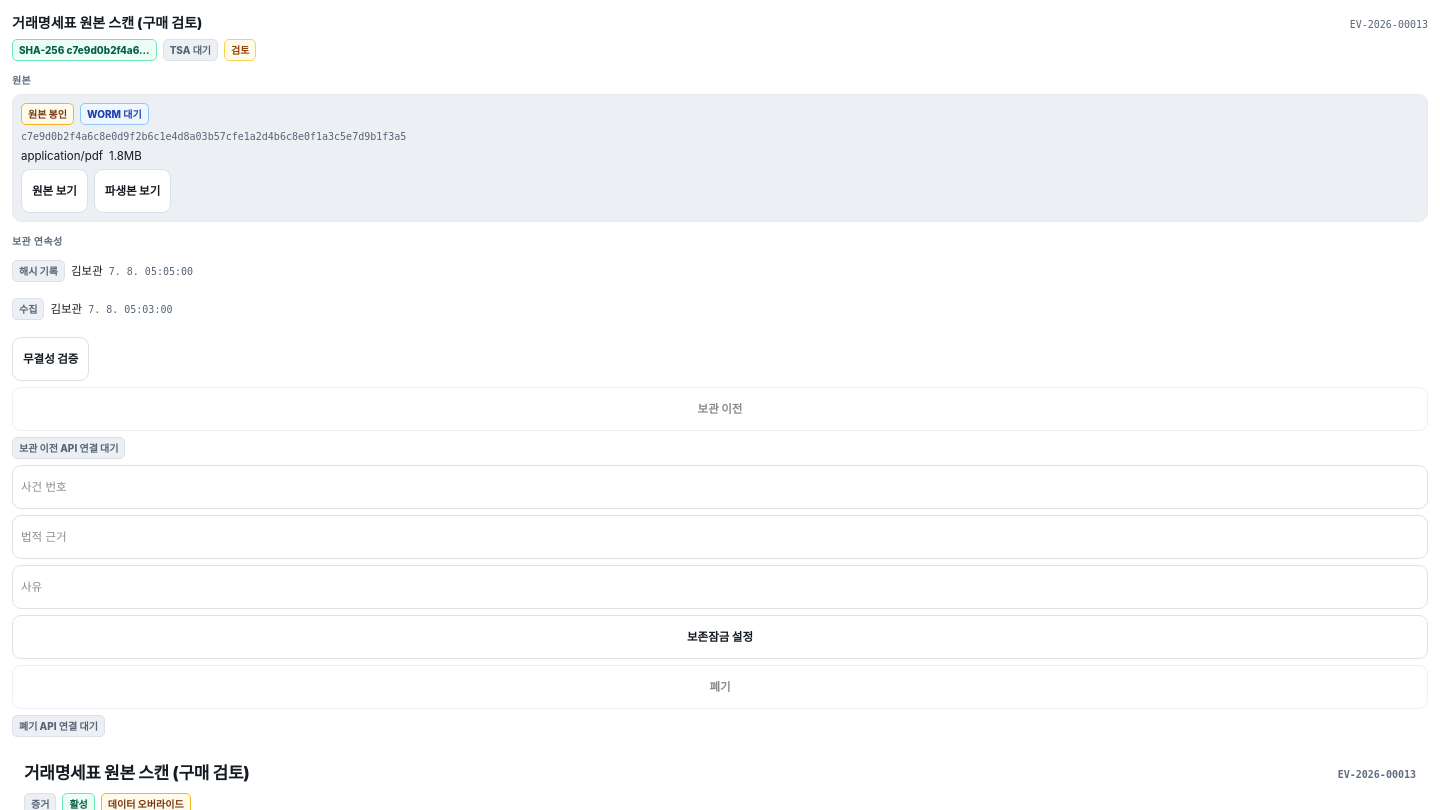
Test: EvidenceCard verify affordance › clears a prior MATCH verdict chip when a later verify throws
Click the button "무결성 검증". click: (51,359)
box: 12,337 -> 89,381
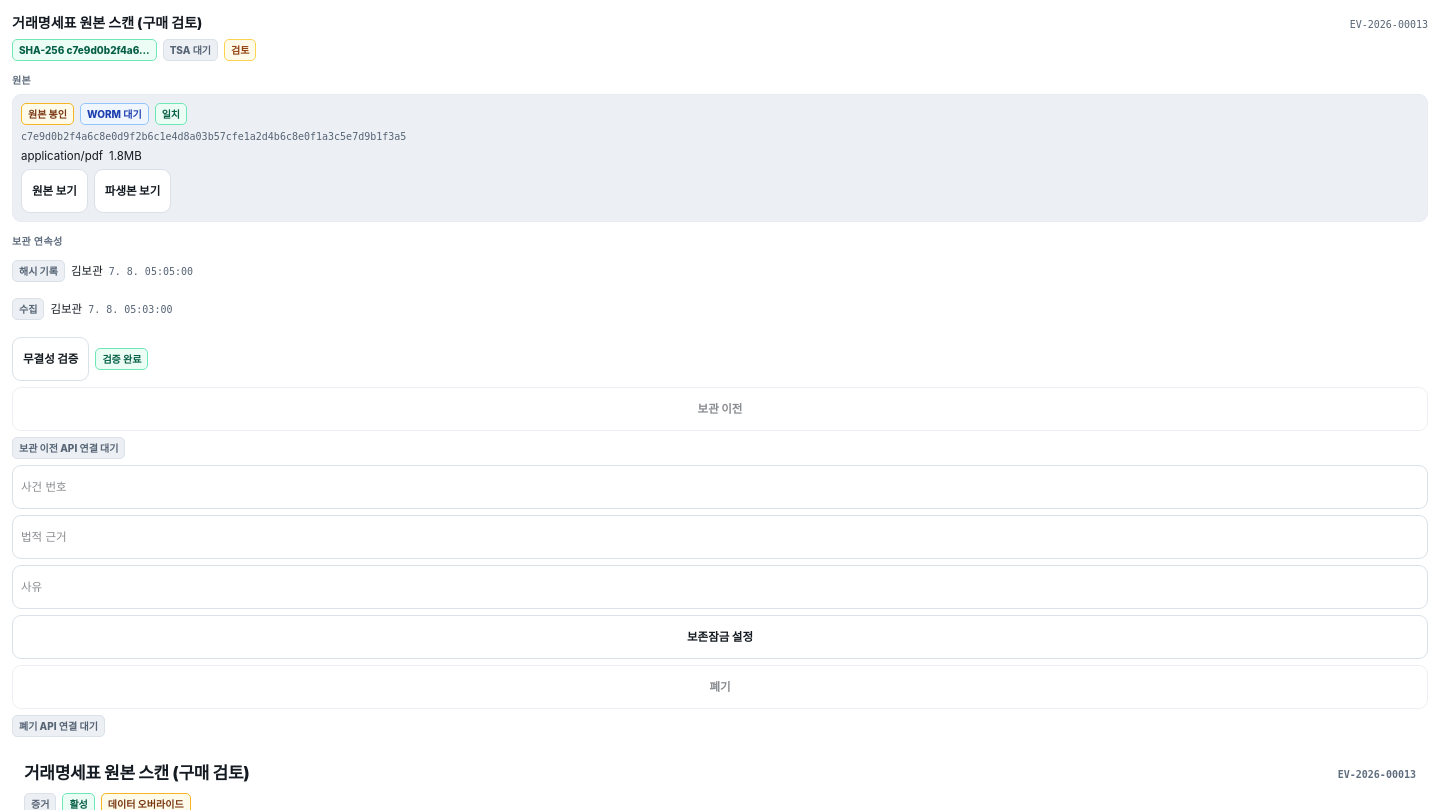
Check: the text "일치" is shown, box 155,103 -> 187,125
Click the button "무결성 검증". click: (51,359)
box: 12,337 -> 89,381
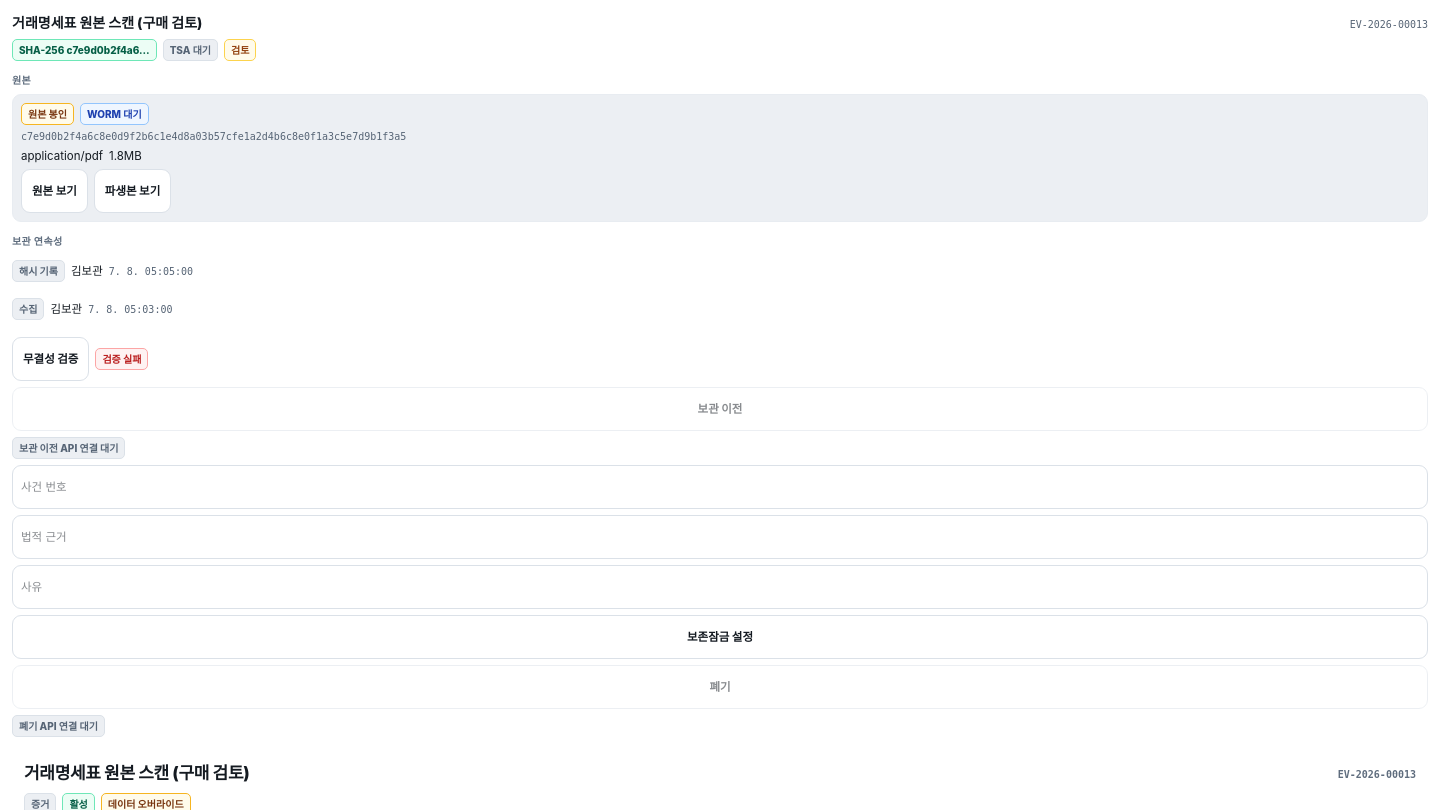
Check: the text "검증 실패" is shown, box 95,348 -> 148,370
Check: the text "일치" is gone
